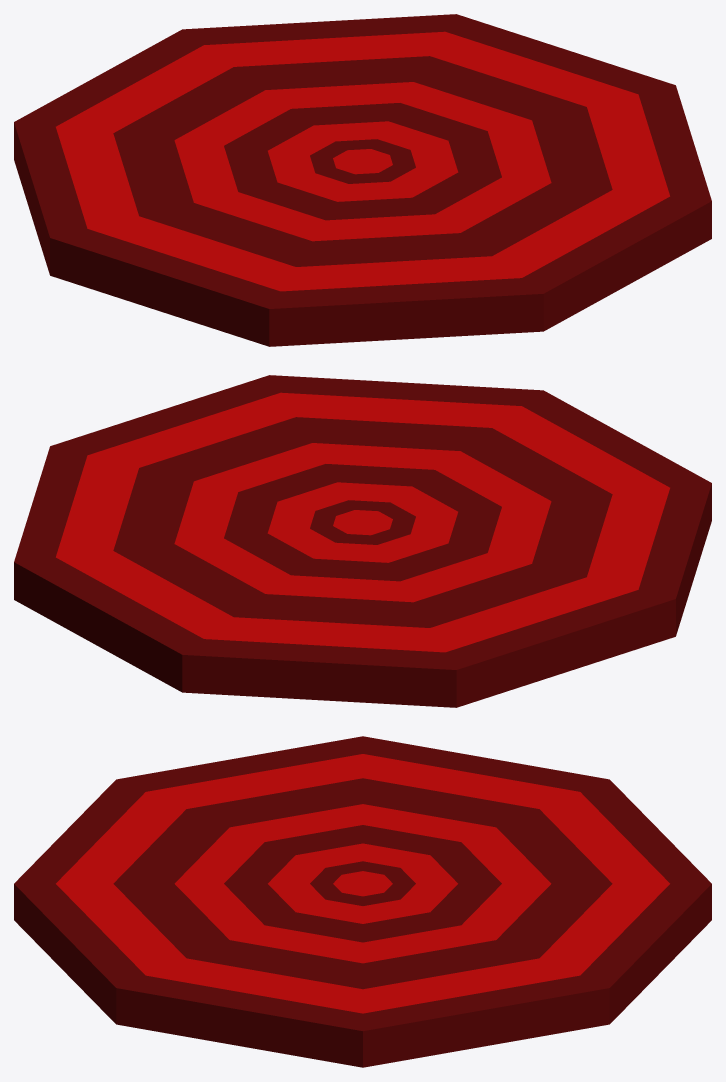
File: beetroot03.gltf
The picture shows the model from 3 angles, top to bottom: view 1: azimuth 30°, elevation 25°; view 2: azimuth 150°, elevation 25°; view 3: azimuth 270°, elevation 25°; orthographic projection. The views are drawn at different scales.
Parts seen in each view (by area): view 1: Cylinder; view 2: Cylinder; view 3: Cylinder.
Part boxes in pixels (x1=…): Cylinder: x1=14, y1=14, x2=711, y2=346; Cylinder: x1=14, y1=375, x2=711, y2=707; Cylinder: x1=14, y1=736, x2=711, y2=1067.
Bounding box in the file's own units: 0.0725 × 0.00418 × 0.0725.
Materials: 1 (1 with a texture image).
